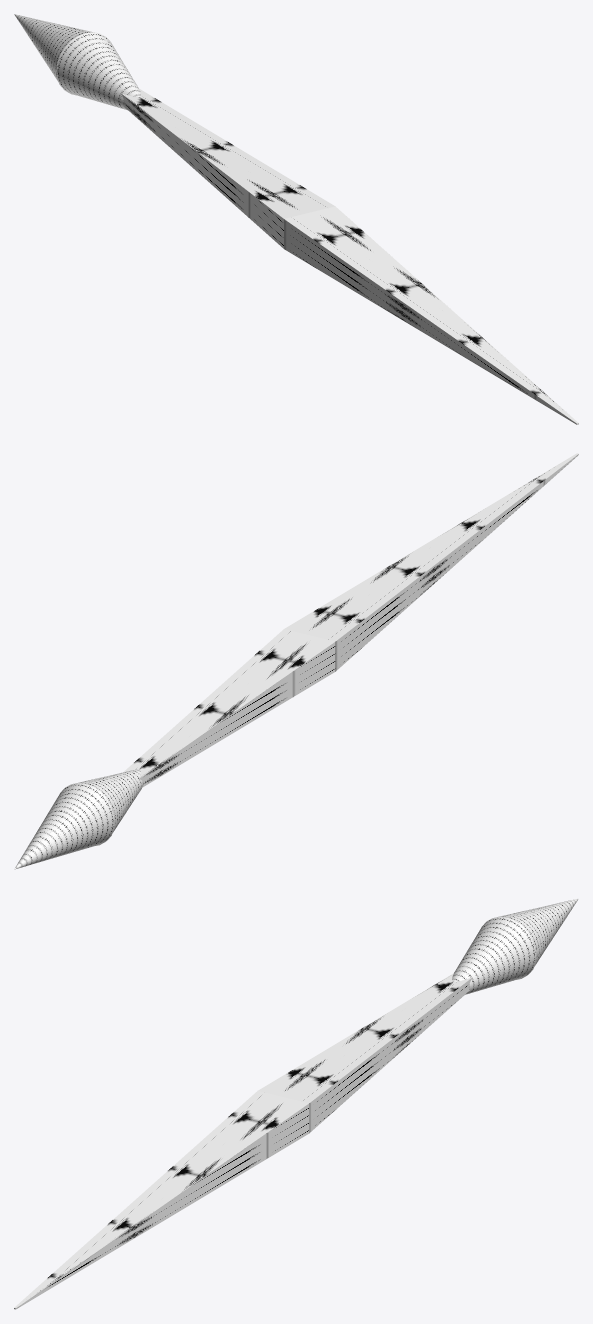
File: CompassArrow.FBX
The picture shows the model from 3 angles, top to bottom: view 1: azimuth 30°, elevation 25°; view 2: azimuth 150°, elevation 25°; view 3: azimuth 330°, elevation 25°; orthographic projection.
Parts seen in each view (by area): view 1: Box002; view 2: Box002; view 3: Box002.
Boxes of the visible parts, left/top/right/bottom form: Box002: left=14, top=14, right=578, bottom=424; Box002: left=14, top=453, right=578, bottom=869; Box002: left=14, top=898, right=578, bottom=1309.
Size of the model in its own units: 1.02 by 1.02 by 17.01.
1 material, 1 textured.
